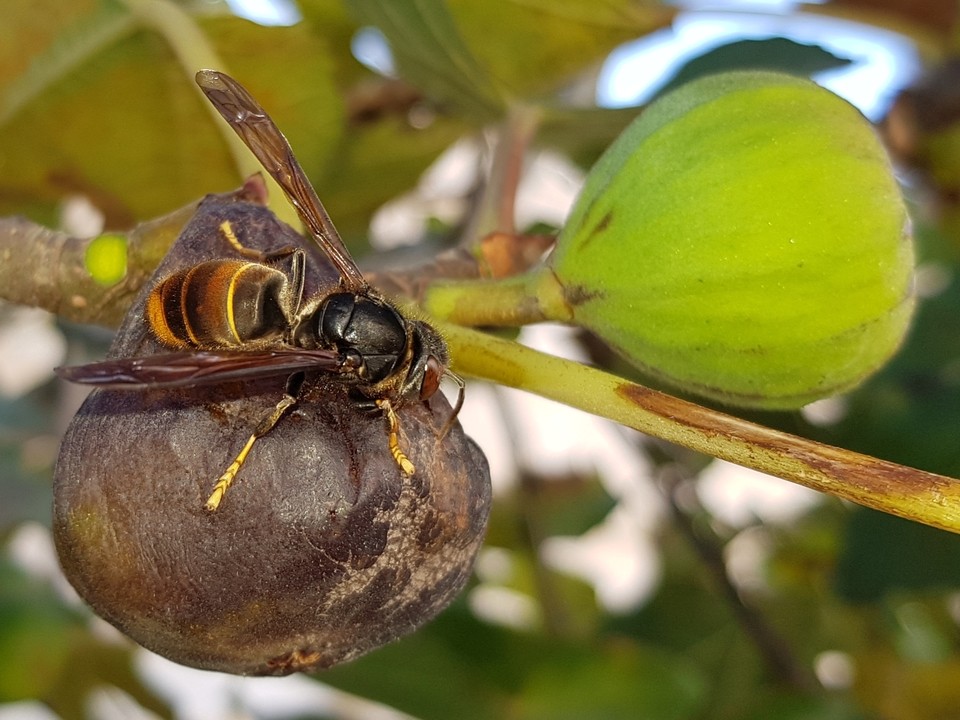hornet: (130, 256, 488, 467)
